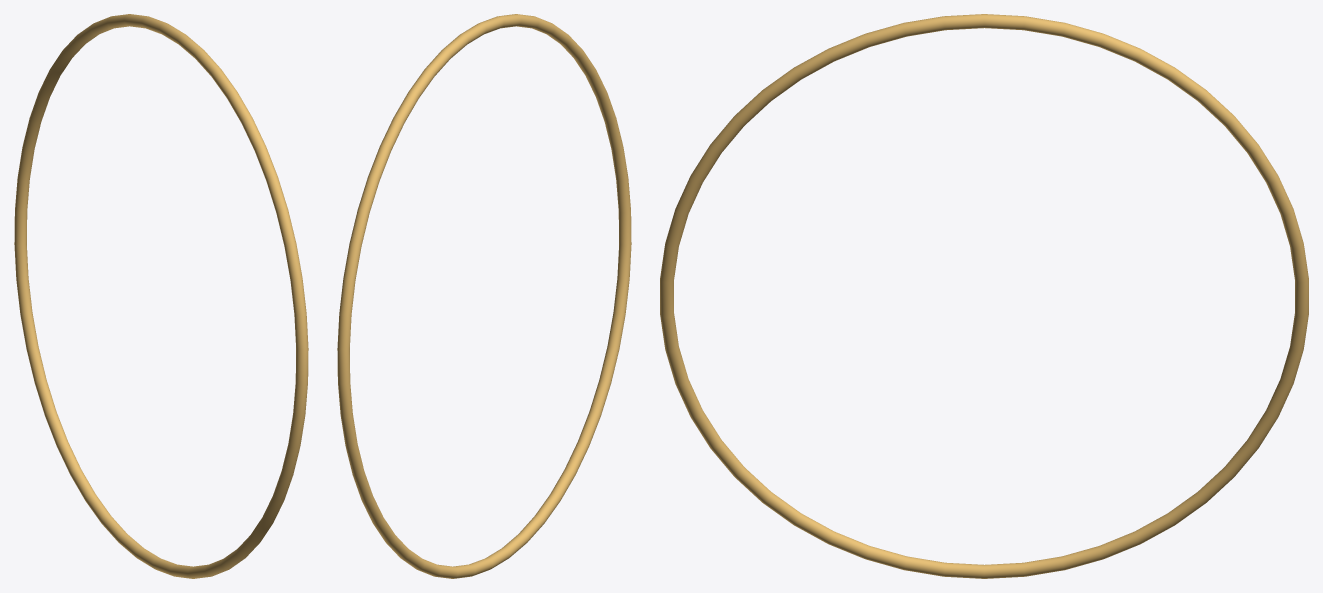
File: EAR.R.fbx
3 views of the same model, side by side, from view 1: azimuth 30°, elevation 25°; view 2: azimuth 150°, elevation 25°; view 3: azimuth 270°, elevation 25° (orthographic). The views are drawn at different scales.
Visible parts, largest first — view 1: Torus.001; view 2: Torus.001; view 3: Torus.001.
Part boxes in pixels (x1,y1,x2,y2): Torus.001: [14, 14, 308, 578]; Torus.001: [337, 14, 631, 578]; Torus.001: [660, 14, 1308, 578].
Size of the model in its own units: 1.18 by 10.98 by 11.
